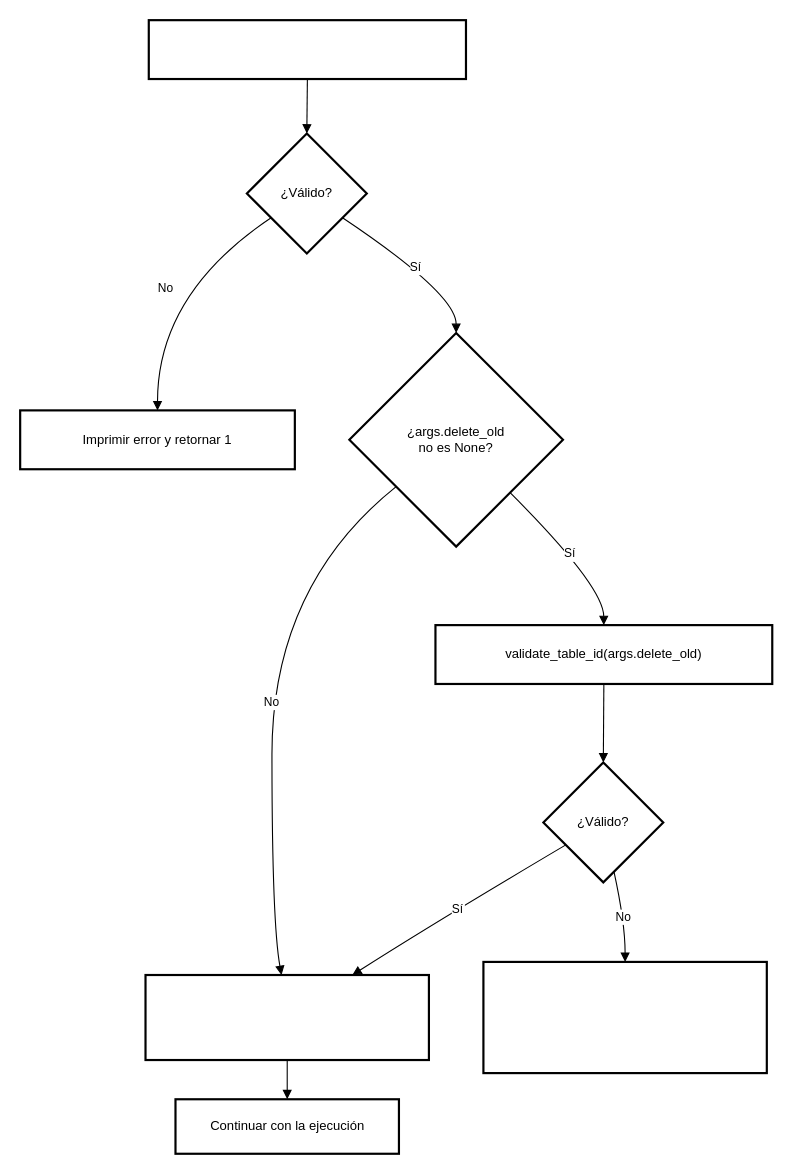
Some shapes in this 791 by 1173 pixel diagram are drawn without their labels. Each missing label, with the box of its shape:
Imprimir debug de argumentos: (144, 973, 429, 1061)
Imprimir error tabla antigua y retornar 1: (482, 960, 767, 1074)
validate_table_id(args.table_id): (147, 19, 467, 80)
